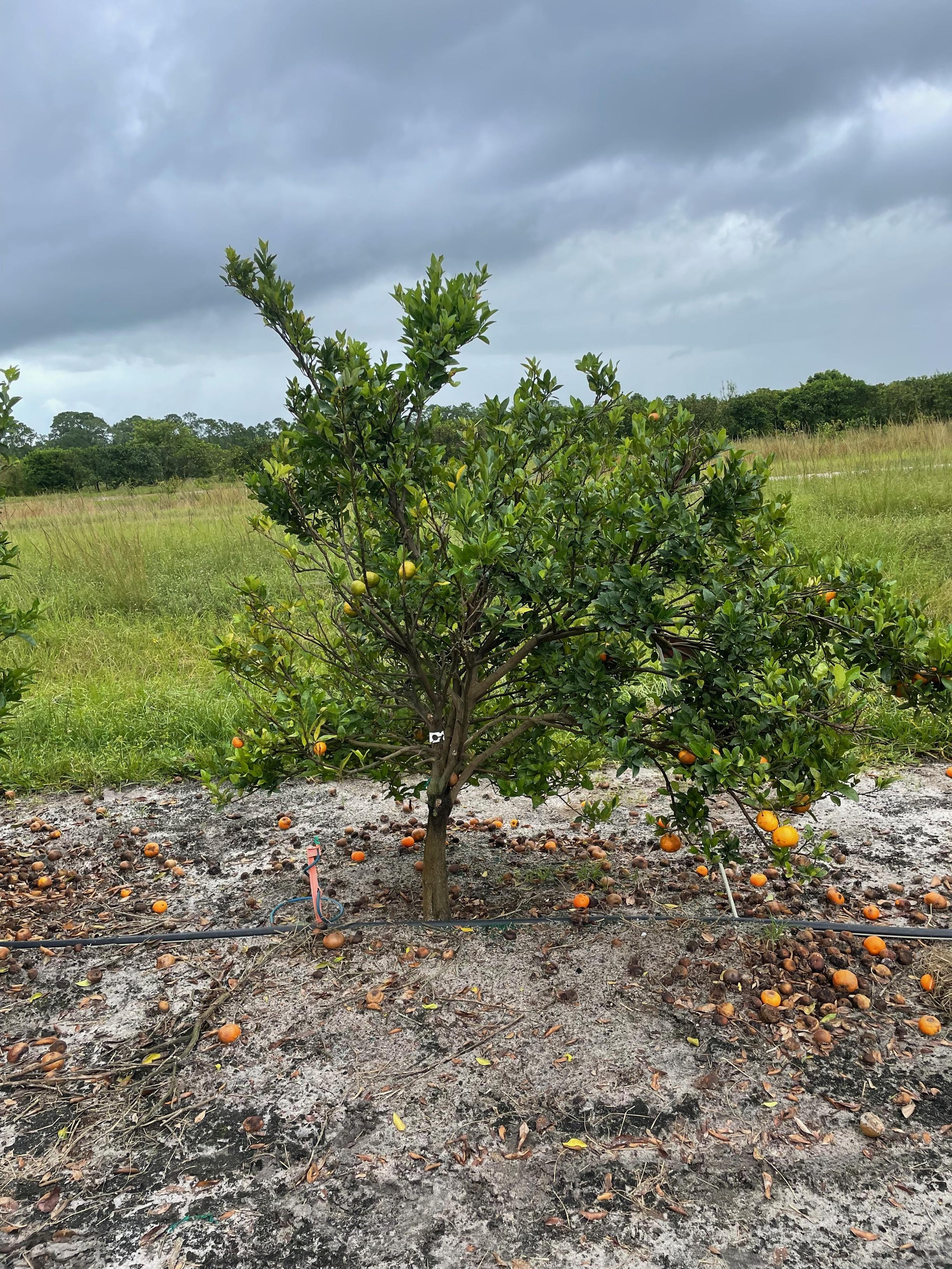fruit_on_ground: (754, 808, 781, 834), (772, 823, 799, 848), (928, 659, 952, 685), (658, 831, 682, 854), (789, 790, 812, 814), (891, 678, 913, 699), (910, 669, 932, 690), (816, 586, 838, 606), (342, 599, 363, 619), (397, 561, 417, 581), (677, 747, 698, 766), (348, 578, 368, 596), (360, 571, 380, 589), (703, 748, 721, 765), (597, 647, 614, 664), (311, 740, 328, 757), (412, 727, 430, 743), (231, 736, 245, 749), (755, 755, 768, 767), (648, 411, 661, 423)
fruit_on_tree: (858, 1110, 886, 1136), (215, 1020, 242, 1046), (831, 968, 859, 993), (917, 1013, 943, 1036), (320, 929, 347, 951), (863, 933, 887, 956), (241, 1112, 266, 1134), (923, 889, 949, 910), (39, 1050, 66, 1070), (759, 987, 782, 1007), (894, 946, 915, 966), (759, 1002, 781, 1021), (155, 952, 177, 971), (807, 951, 827, 971), (812, 1026, 833, 1045), (825, 886, 846, 905), (919, 972, 938, 993), (852, 993, 871, 1012), (791, 851, 811, 869), (862, 902, 881, 920), (572, 892, 592, 909), (142, 840, 160, 858), (721, 967, 740, 984), (717, 1000, 735, 1017), (749, 870, 767, 887), (14, 925, 34, 940), (909, 909, 927, 924), (712, 1012, 730, 1027), (761, 866, 779, 881), (152, 898, 168, 914), (819, 1000, 836, 1015), (244, 893, 261, 908), (587, 844, 604, 859), (632, 854, 649, 869), (412, 825, 427, 842), (36, 873, 53, 888), (276, 815, 293, 830), (349, 848, 366, 863), (168, 860, 186, 874), (887, 879, 905, 893), (447, 881, 463, 896), (778, 979, 794, 994), (542, 838, 558, 853), (894, 897, 911, 911), (834, 850, 849, 865), (782, 957, 797, 972), (695, 862, 710, 877), (30, 859, 47, 872), (2, 787, 17, 801), (654, 815, 669, 829), (415, 944, 430, 958), (47, 847, 61, 862), (399, 835, 415, 848), (600, 858, 614, 872), (28, 820, 43, 833), (118, 859, 133, 872), (162, 856, 177, 869), (172, 864, 187, 877), (110, 836, 124, 849), (119, 885, 133, 898), (81, 795, 96, 807), (602, 838, 615, 851), (413, 858, 426, 871), (442, 947, 456, 959), (379, 823, 393, 835), (344, 823, 358, 835), (943, 762, 952, 780), (49, 827, 62, 839), (334, 835, 348, 846), (492, 816, 504, 828), (129, 825, 142, 836), (95, 805, 108, 816), (508, 816, 519, 827)
